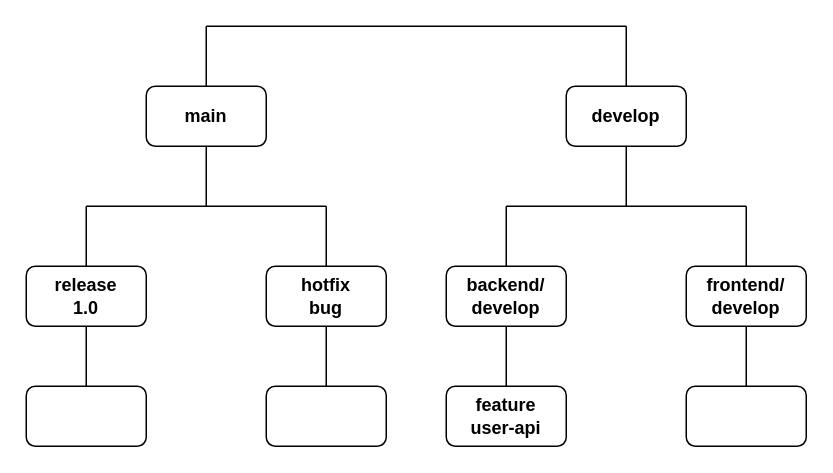
The diagram is 833 pixels wide and 473 high, and some of its shapes have lost their labels. Each missing label, with the centre of its shape:
bugfix login-fix: (325,415)
feature auth: (745,415)
feature new: (85,415)
